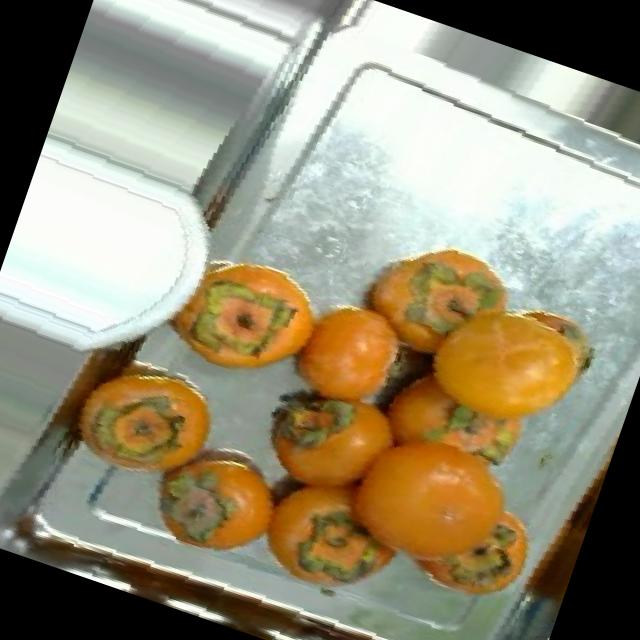Fruit: (406, 263, 617, 460), (45, 332, 245, 516), (148, 231, 334, 405)
